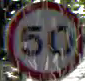Speed limit: (4, 0, 84, 79)
